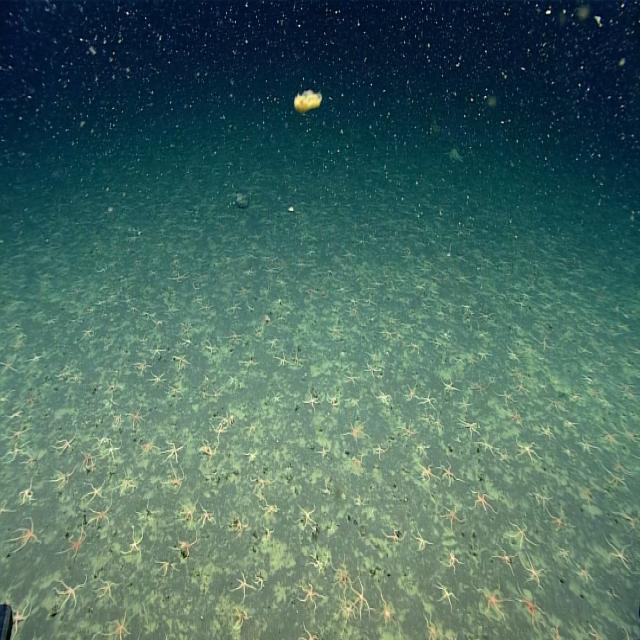brittle-stars: (603, 532, 636, 574), (6, 519, 42, 556), (52, 576, 90, 611), (478, 582, 512, 616), (517, 585, 543, 627), (92, 612, 129, 640), (330, 560, 360, 594), (505, 518, 536, 550), (58, 530, 88, 561), (493, 540, 520, 574), (466, 490, 498, 516), (0, 440, 31, 466), (350, 579, 370, 619), (515, 436, 541, 466), (334, 595, 355, 632), (175, 499, 199, 531), (377, 592, 398, 628), (230, 570, 256, 599), (602, 462, 628, 490), (522, 560, 550, 586), (610, 502, 638, 528), (50, 464, 77, 490), (437, 458, 462, 486), (441, 502, 464, 532), (121, 527, 143, 558), (13, 604, 33, 638), (80, 482, 107, 507), (94, 579, 122, 602), (168, 533, 198, 554), (344, 418, 368, 444), (433, 582, 457, 608), (51, 431, 75, 456), (298, 584, 321, 610), (114, 470, 137, 496), (546, 505, 568, 532), (89, 504, 112, 528), (162, 442, 186, 464), (296, 502, 317, 527), (420, 611, 438, 640), (137, 437, 159, 460), (230, 611, 253, 633), (465, 378, 492, 396), (306, 554, 330, 574), (0, 427, 32, 442), (164, 469, 184, 492), (197, 504, 216, 528), (456, 418, 478, 438), (412, 528, 430, 552), (20, 480, 35, 508), (127, 408, 146, 430), (238, 351, 260, 370), (418, 464, 441, 482), (381, 528, 408, 543), (155, 560, 180, 576), (200, 441, 219, 462), (396, 418, 415, 439), (256, 499, 278, 517), (250, 474, 272, 492), (440, 556, 464, 572), (296, 625, 321, 640), (578, 436, 600, 453), (101, 442, 123, 459), (209, 422, 228, 441), (231, 515, 249, 535), (416, 392, 436, 410), (441, 376, 459, 396), (494, 389, 515, 406), (80, 452, 96, 473), (364, 360, 382, 378), (201, 340, 219, 358), (374, 443, 391, 462), (164, 384, 183, 401), (576, 563, 592, 583), (92, 436, 113, 451), (530, 492, 554, 505), (146, 372, 168, 386), (374, 389, 392, 406), (546, 396, 564, 413), (477, 441, 497, 456), (507, 408, 522, 428), (302, 394, 319, 411), (149, 341, 166, 358), (512, 378, 530, 394), (538, 421, 553, 440), (402, 387, 421, 402), (341, 370, 358, 386), (0, 358, 17, 374), (548, 621, 562, 640), (556, 544, 570, 563), (274, 348, 287, 368), (171, 354, 191, 367), (166, 273, 192, 283), (587, 625, 604, 640), (252, 575, 269, 590), (351, 456, 363, 477), (324, 394, 342, 408), (414, 443, 428, 460), (224, 331, 242, 344), (245, 420, 258, 438), (0, 502, 19, 514), (290, 352, 304, 368), (0, 390, 14, 406), (221, 412, 235, 428), (343, 396, 363, 407), (316, 446, 330, 461), (3, 410, 24, 420), (236, 285, 254, 296), (458, 397, 472, 411), (103, 396, 118, 409), (26, 352, 42, 364), (227, 302, 240, 316), (112, 413, 124, 428), (178, 324, 193, 336), (20, 458, 40, 467), (140, 310, 156, 320), (163, 305, 179, 315), (498, 450, 511, 462), (433, 336, 444, 350), (264, 525, 275, 539), (134, 361, 148, 372), (211, 388, 223, 400), (272, 298, 286, 308), (322, 482, 332, 496), (24, 395, 38, 405), (107, 379, 118, 391), (246, 449, 256, 462), (199, 304, 214, 312), (153, 319, 163, 330), (82, 330, 94, 339), (138, 336, 148, 346), (55, 372, 71, 378)
